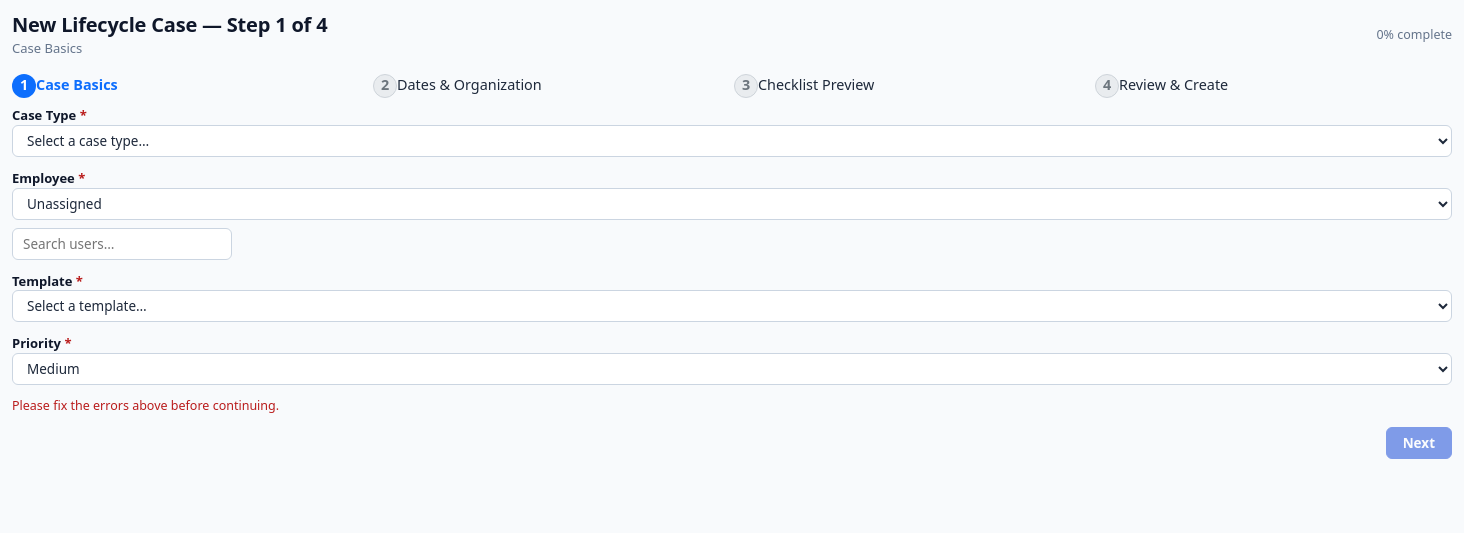
Test: Four-step wizard › advances from step 1 to step 2 when valid
Select "Onboarding" in the dropdown with test id "case-type-select". click: (732, 141)
box: [12,125,1452,157]
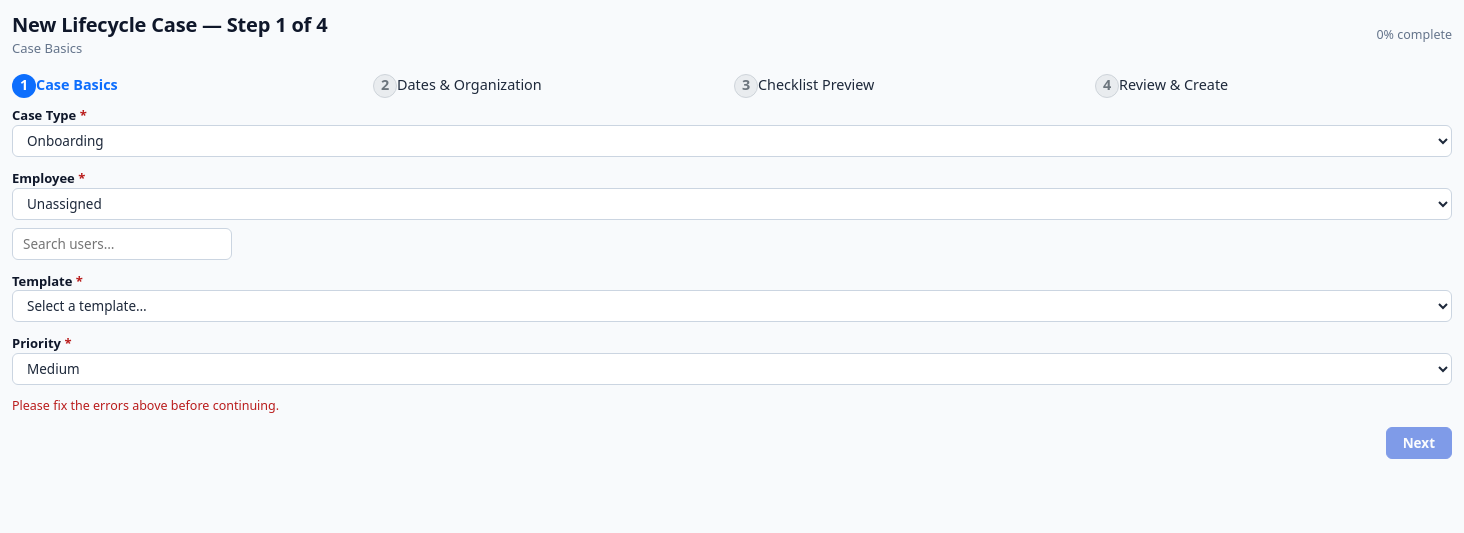
Select "E3 — emp3@x" in the dropdown with test id "employee-select". click: (732, 204)
box: [12,188,1452,220]
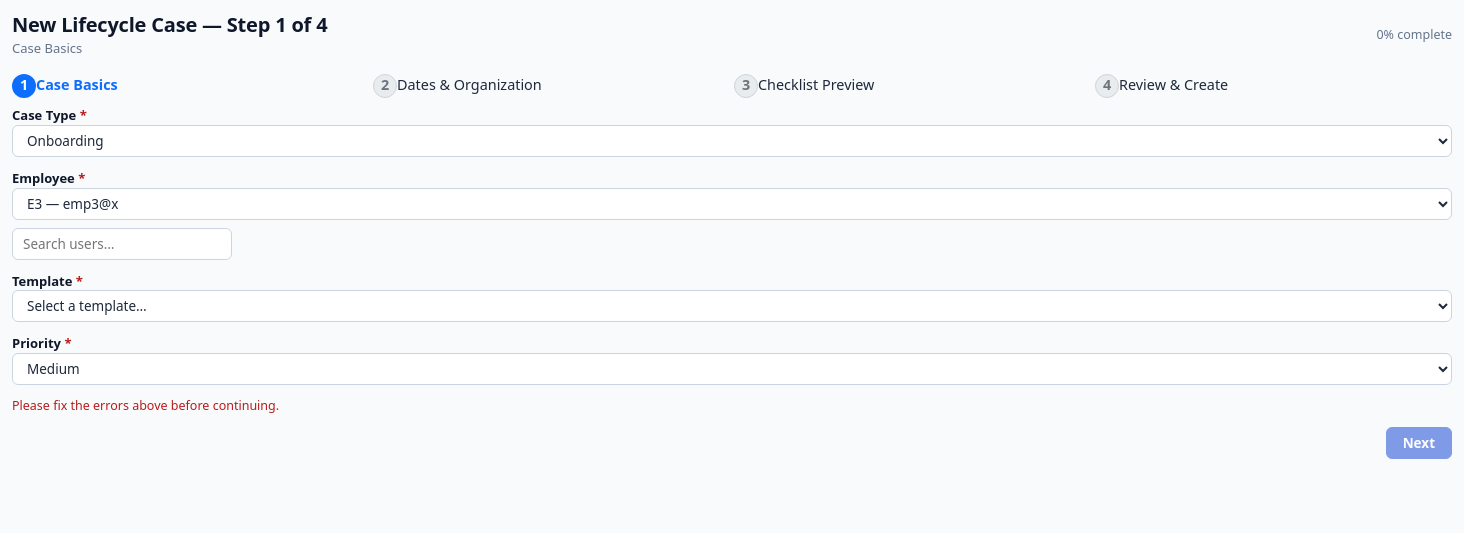
Select "TPL-ONB — Onboarding Template (3 items)" in the dropdown with test id "template-select". click: (732, 306)
box: [12,290,1452,322]
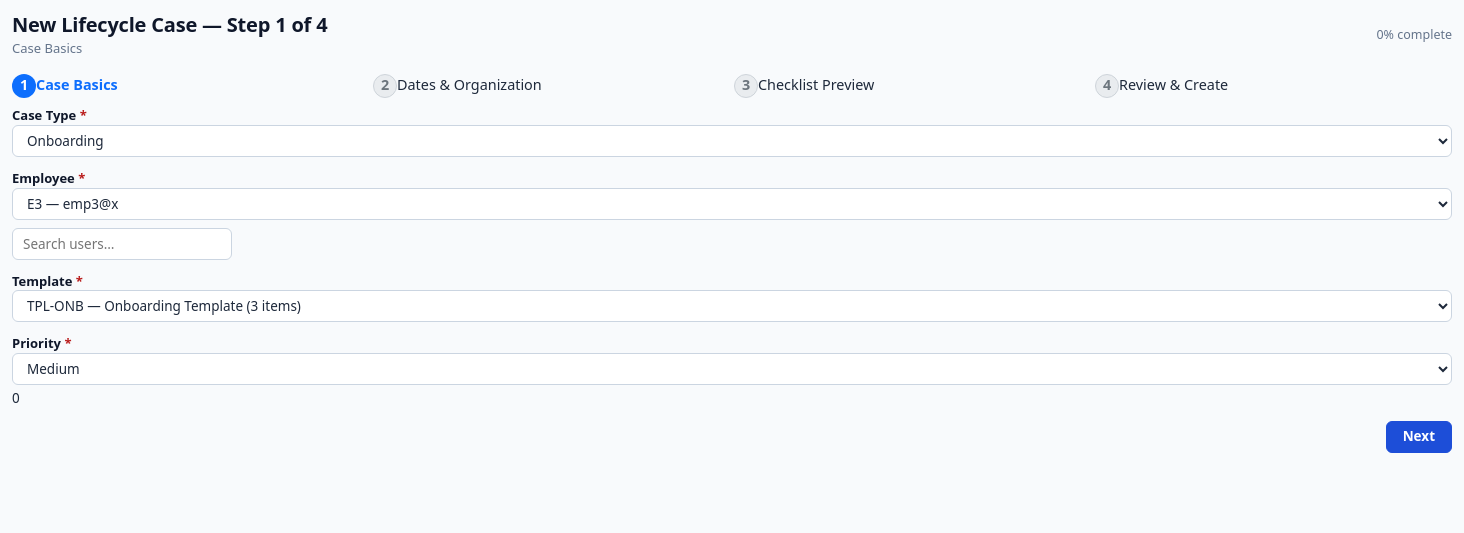
Click the button "Next". click: (1419, 437)
box: [1386,421,1452,453]
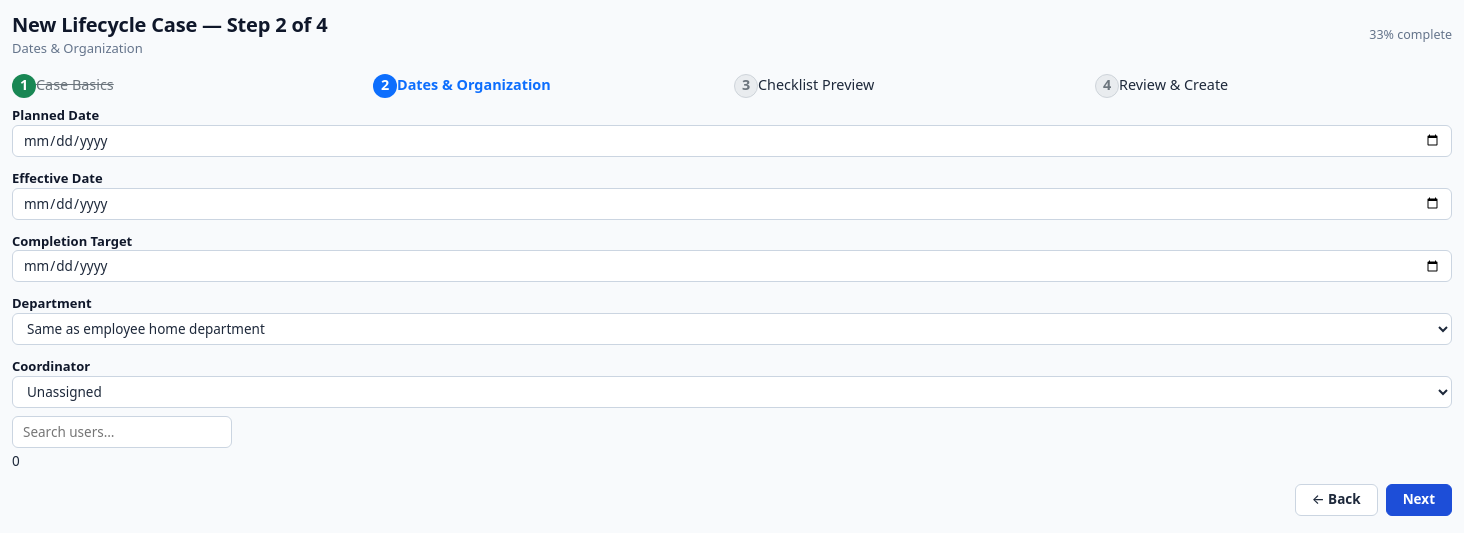
Expected: the heading "New Lifecycle Case — Step 2 of 4" is shown, [12,12,327,37]
